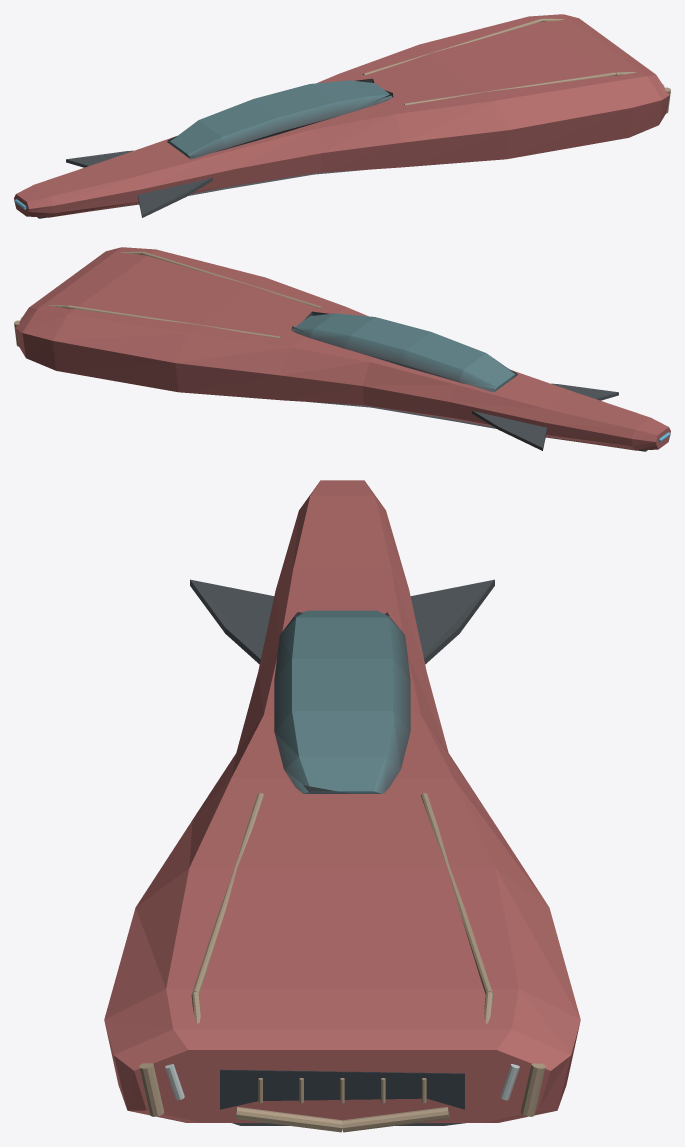
The model's file is jetjet_red_flight.glb.
3 renders of one model, top to bottom at view 1: azimuth 30°, elevation 25°; view 2: azimuth 150°, elevation 25°; view 3: azimuth 270°, elevation 25°, orthographic. The views are drawn at different scales.
Visible parts, largest first — view 1: hull_0, cockpit_frame_2, aft_fins_7, bonnet_edge_3, lower_keel_1; view 2: hull_0, cockpit_frame_2, aft_fins_7, bonnet_edge_3, lower_keel_1; view 3: hull_0, cockpit_frame_2, aft_fins_7, front_grille_8, bonnet_edge_3, front_chevron_6, front_corner_4.
Part boxes in pixels (box(x1,y1,x2,y2)): hull_0: box(14, 14, 669, 217); cockpit_frame_2: box(167, 78, 393, 159); aft_fins_7: box(66, 150, 213, 217); bonnet_edge_3: box(362, 18, 636, 105); lower_keel_1: box(37, 169, 367, 218); hull_0: box(15, 247, 670, 450); cockpit_frame_2: box(291, 311, 517, 392); aft_fins_7: box(471, 383, 618, 450); bonnet_edge_3: box(48, 251, 322, 338); lower_keel_1: box(310, 402, 647, 451); hull_0: box(104, 480, 580, 1122); cockpit_frame_2: box(274, 610, 410, 793); aft_fins_7: box(190, 579, 494, 664); front_grille_8: box(220, 1069, 464, 1109); bonnet_edge_3: box(191, 793, 493, 1023); front_chevron_6: box(235, 1107, 449, 1132); front_corner_4: box(139, 1063, 545, 1116).
Size of the model in its own units: 10.21 by 1.23 by 3.5.
